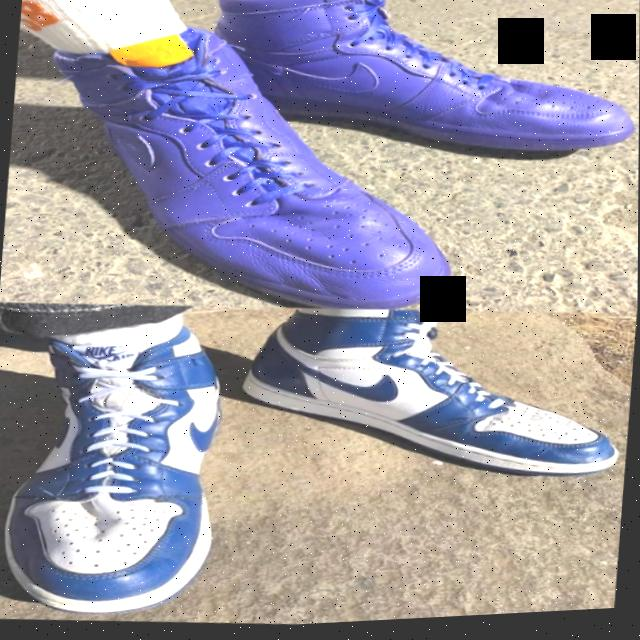shoes: (17, 6, 481, 336), (221, 285, 637, 507), (0, 290, 256, 632), (186, 0, 640, 187)
